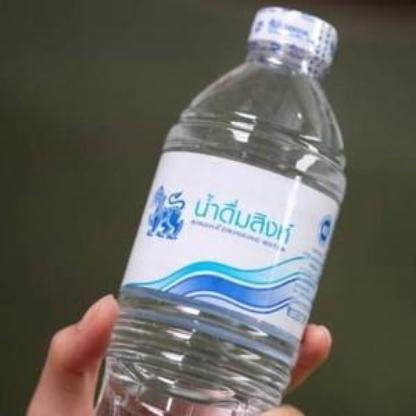Plastic Bottle: (93, 4, 349, 416)
